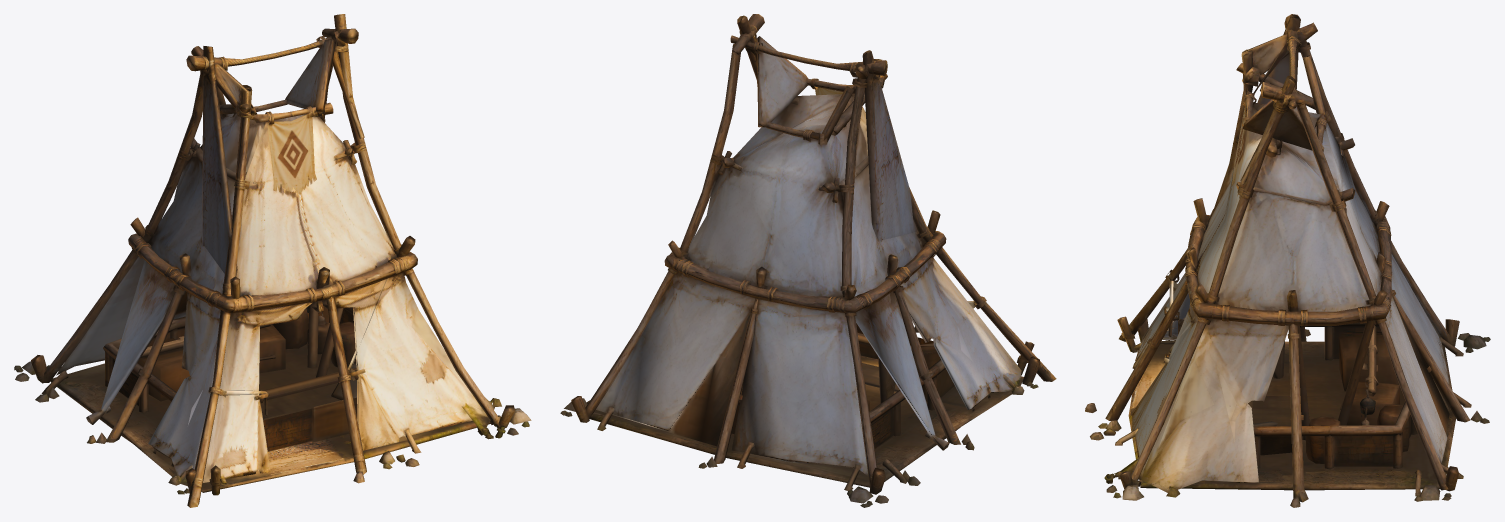
The model's file is teepee+tent+3d+model.fbx.
The picture shows the model from 3 angles, left to right: view 1: azimuth 30°, elevation 25°; view 2: azimuth 150°, elevation 25°; view 3: azimuth 270°, elevation 25°; orthographic projection. The views are drawn at different scales.
Parts seen in each view (by area): view 1: tripo_9c9c29a9_6858_418f_953b_11b30ad5e61a; view 2: tripo_9c9c29a9_6858_418f_953b_11b30ad5e61a; view 3: tripo_9c9c29a9_6858_418f_953b_11b30ad5e61a.
Part boxes in pixels (left/top/right/bottom): tripo_9c9c29a9_6858_418f_953b_11b30ad5e61a: left=14, top=14, right=531, bottom=507; tripo_9c9c29a9_6858_418f_953b_11b30ad5e61a: left=560, top=14, right=1056, bottom=507; tripo_9c9c29a9_6858_418f_953b_11b30ad5e61a: left=1085, top=14, right=1490, bottom=507.
Bounding box in the file's own units: 0.9995 × 0.9995 × 0.978.
